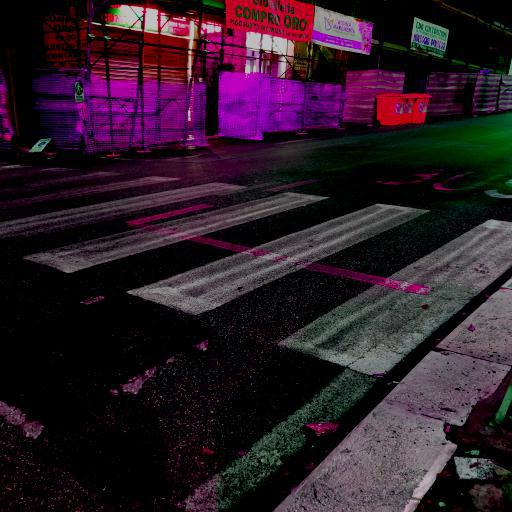crosswalk: (120, 163, 511, 395)
